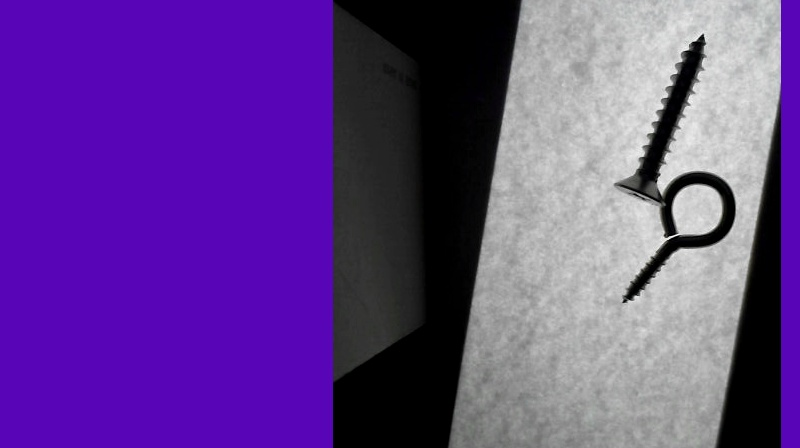O001: (619, 173, 735, 305)
S001: (612, 27, 707, 213)
